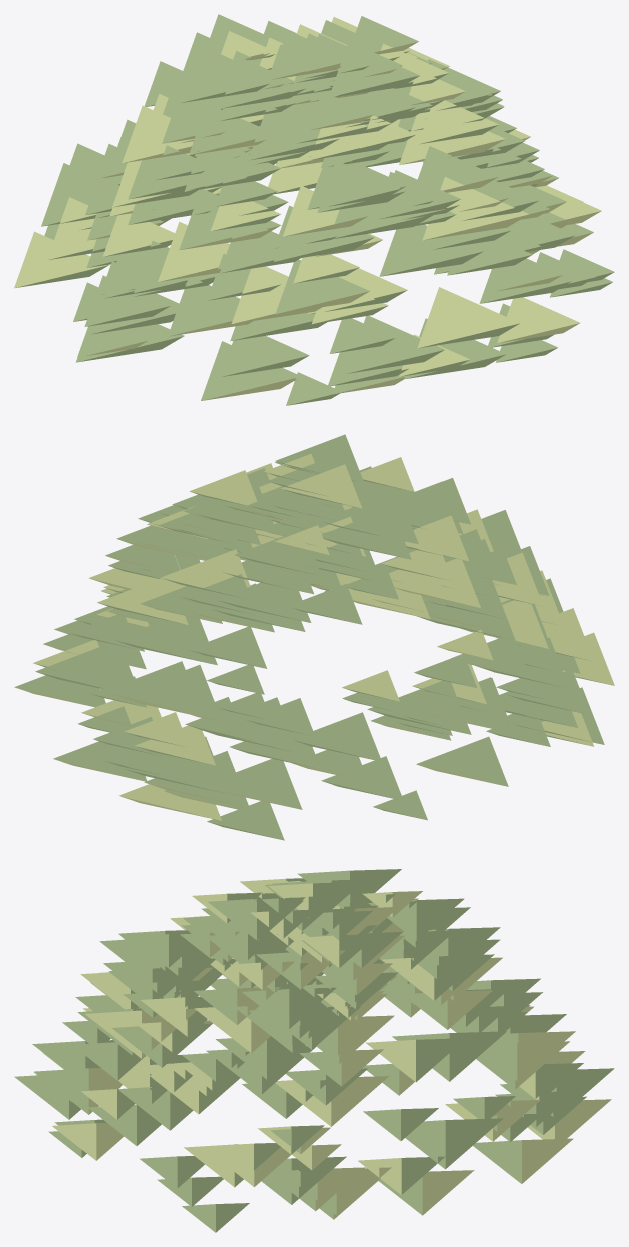
File: ShoreShrub.fbx
3 renders of one model, top to bottom at view 1: azimuth 30°, elevation 25°; view 2: azimuth 150°, elevation 25°; view 3: azimuth 270°, elevation 25°, orthographic. The views are drawn at different scales.
Visible parts, largest first — view 1: Rigid.005; view 2: Rigid.005; view 3: Rigid.005.
Part boxes in pixels (<box>): Rigid.005: <box>14,14,614,405</box>; Rigid.005: <box>14,434,614,840</box>; Rigid.005: <box>14,869,614,1232</box>.
Bounding box in the file's own units: 2.33 × 1.07 × 2.43.
